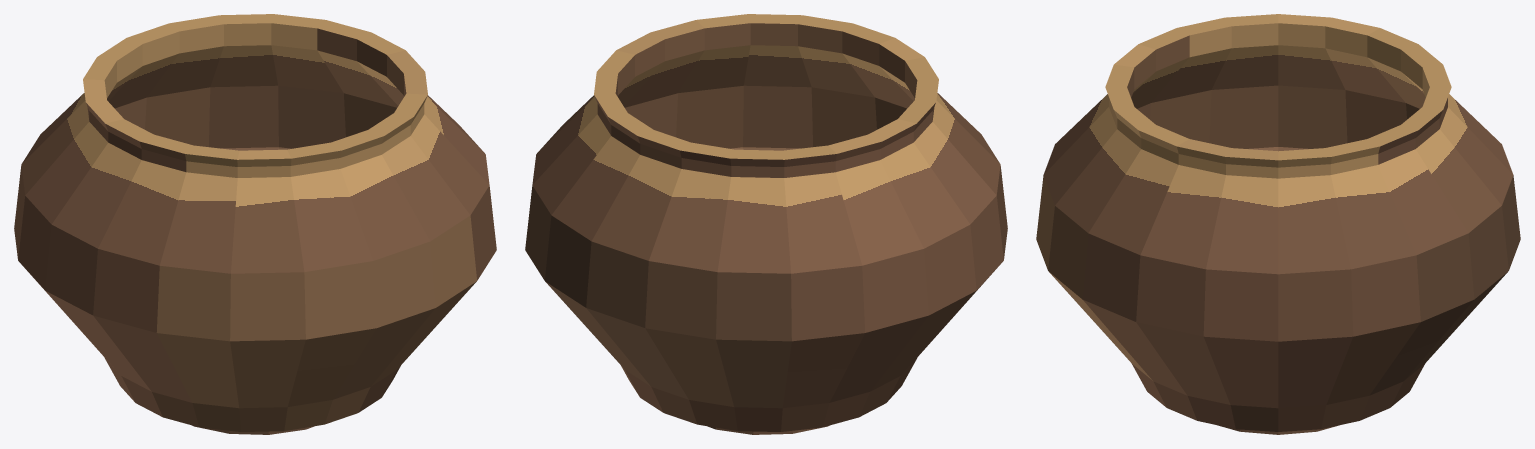
File: vessel-echizen.glb
3 views of the same model, side by side, from view 1: azimuth 30°, elevation 25°; view 2: azimuth 150°, elevation 25°; view 3: azimuth 270°, elevation 25° (orthographic).
Parts seen in each view (by area): view 1: vessel-echizen/complete-inner-outer-shell-with-drainage; view 2: vessel-echizen/complete-inner-outer-shell-with-drainage; view 3: vessel-echizen/complete-inner-outer-shell-with-drainage.
Boxes of the visible parts, x1,y1,x2,y2 form: vessel-echizen/complete-inner-outer-shell-with-drainage: (14,14,496,431); vessel-echizen/complete-inner-outer-shell-with-drainage: (525,14,1007,431); vessel-echizen/complete-inner-outer-shell-with-drainage: (1036,14,1520,431).
Size of the model in its own units: 0.4 by 0.278 by 0.4.
1 material, 1 textured.
